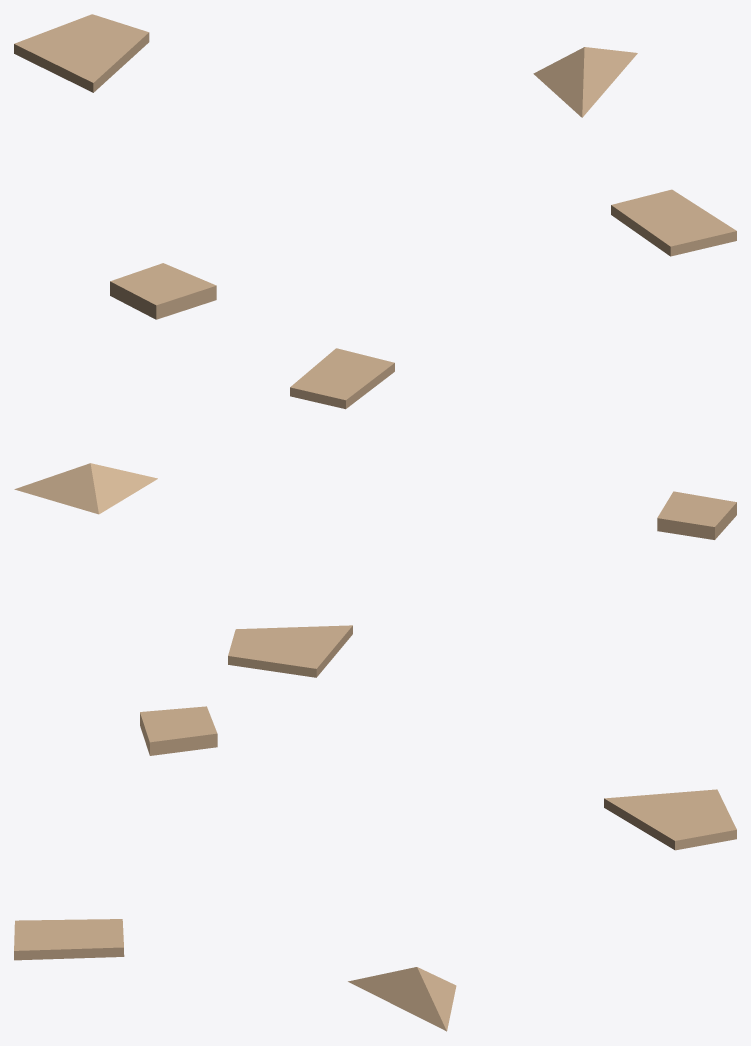
The model's file is Rocks_Flat_s_05.fbx.
3 renders of one model, top to bottom at view 1: azimuth 30°, elevation 25°; view 2: azimuth 150°, elevation 25°; view 3: azimuth 270°, elevation 25°, orthographic. The views are drawn at different scales.
Visible parts, largest first — view 1: Rocks_Flat_s_05; view 2: Rocks_Flat_s_05; view 3: Rocks_Flat_s_05.
Part boxes in pixels (left/top/right/bottom): Rocks_Flat_s_05: left=14, top=14, right=736, bottom=319; Rocks_Flat_s_05: left=14, top=348, right=736, bottom=677; Rocks_Flat_s_05: left=14, top=706, right=736, bottom=1031.
Size of the model in its own units: 67.21 by 3.4 by 68.01.
